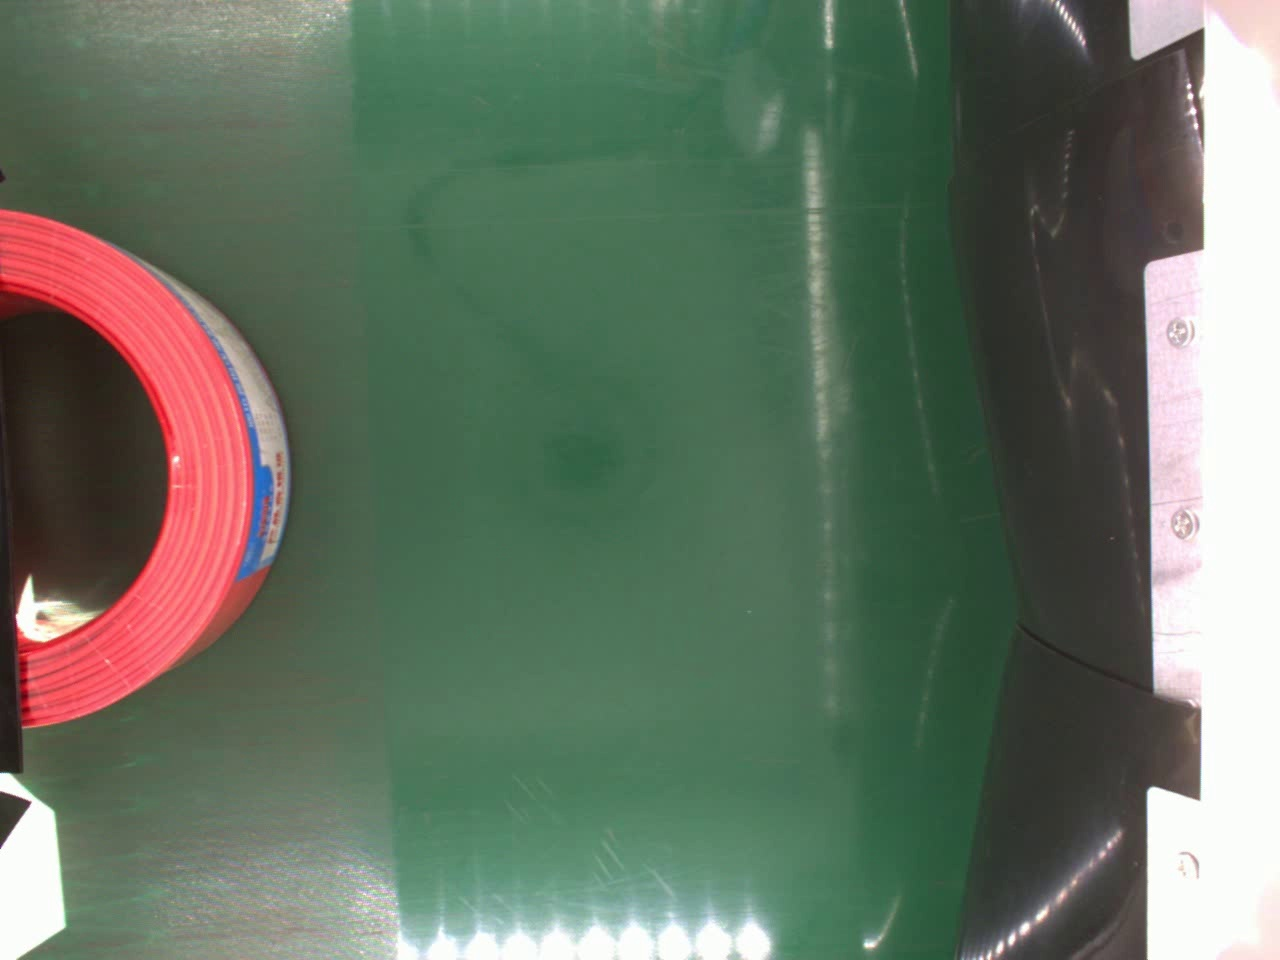red: (0, 204, 292, 732)
